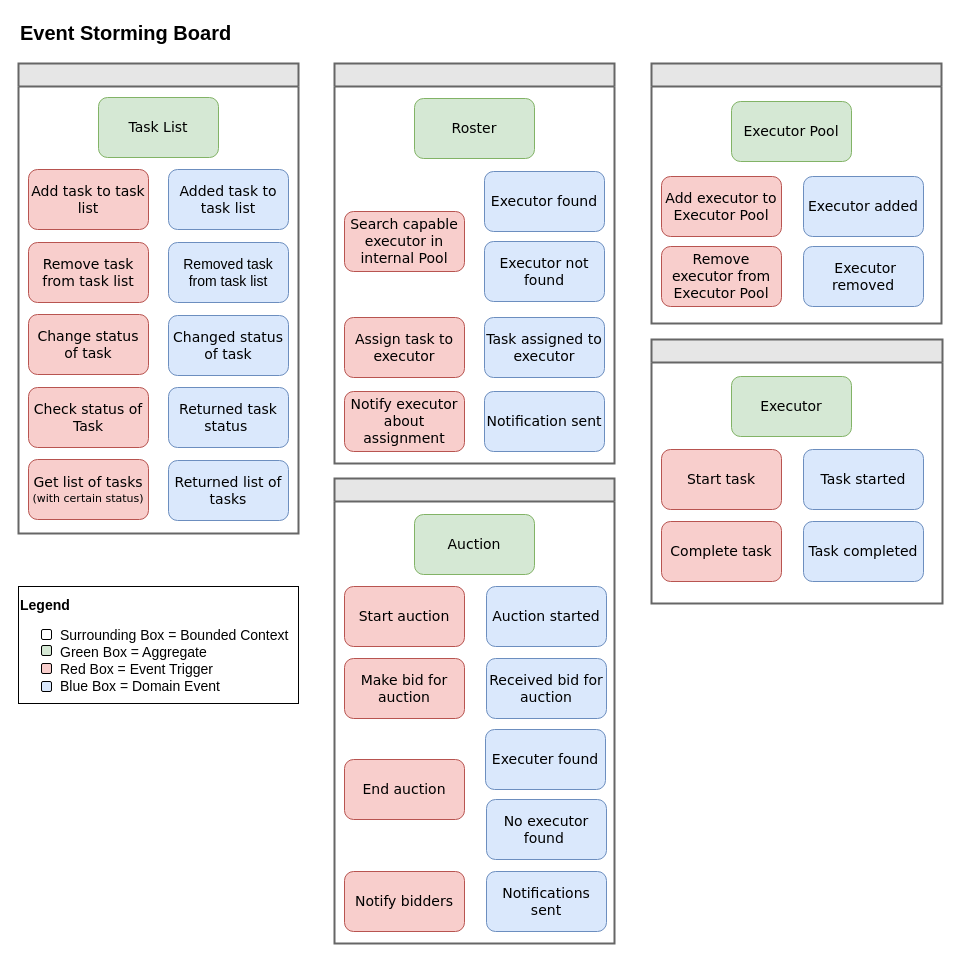
This 960x961 diagram has some shape labels left out. The shapes that lost their labels are listed below. From the top down, each one's box as (x1, y1, x2, y2) in pixels, then its label:
(650, 62, 942, 324): Executor Pool Domain
(333, 62, 615, 464): Roster Domain
(17, 62, 299, 534): Task List Domain
(650, 338, 943, 604): Executor Domain
(333, 477, 615, 944): Auction Domain
